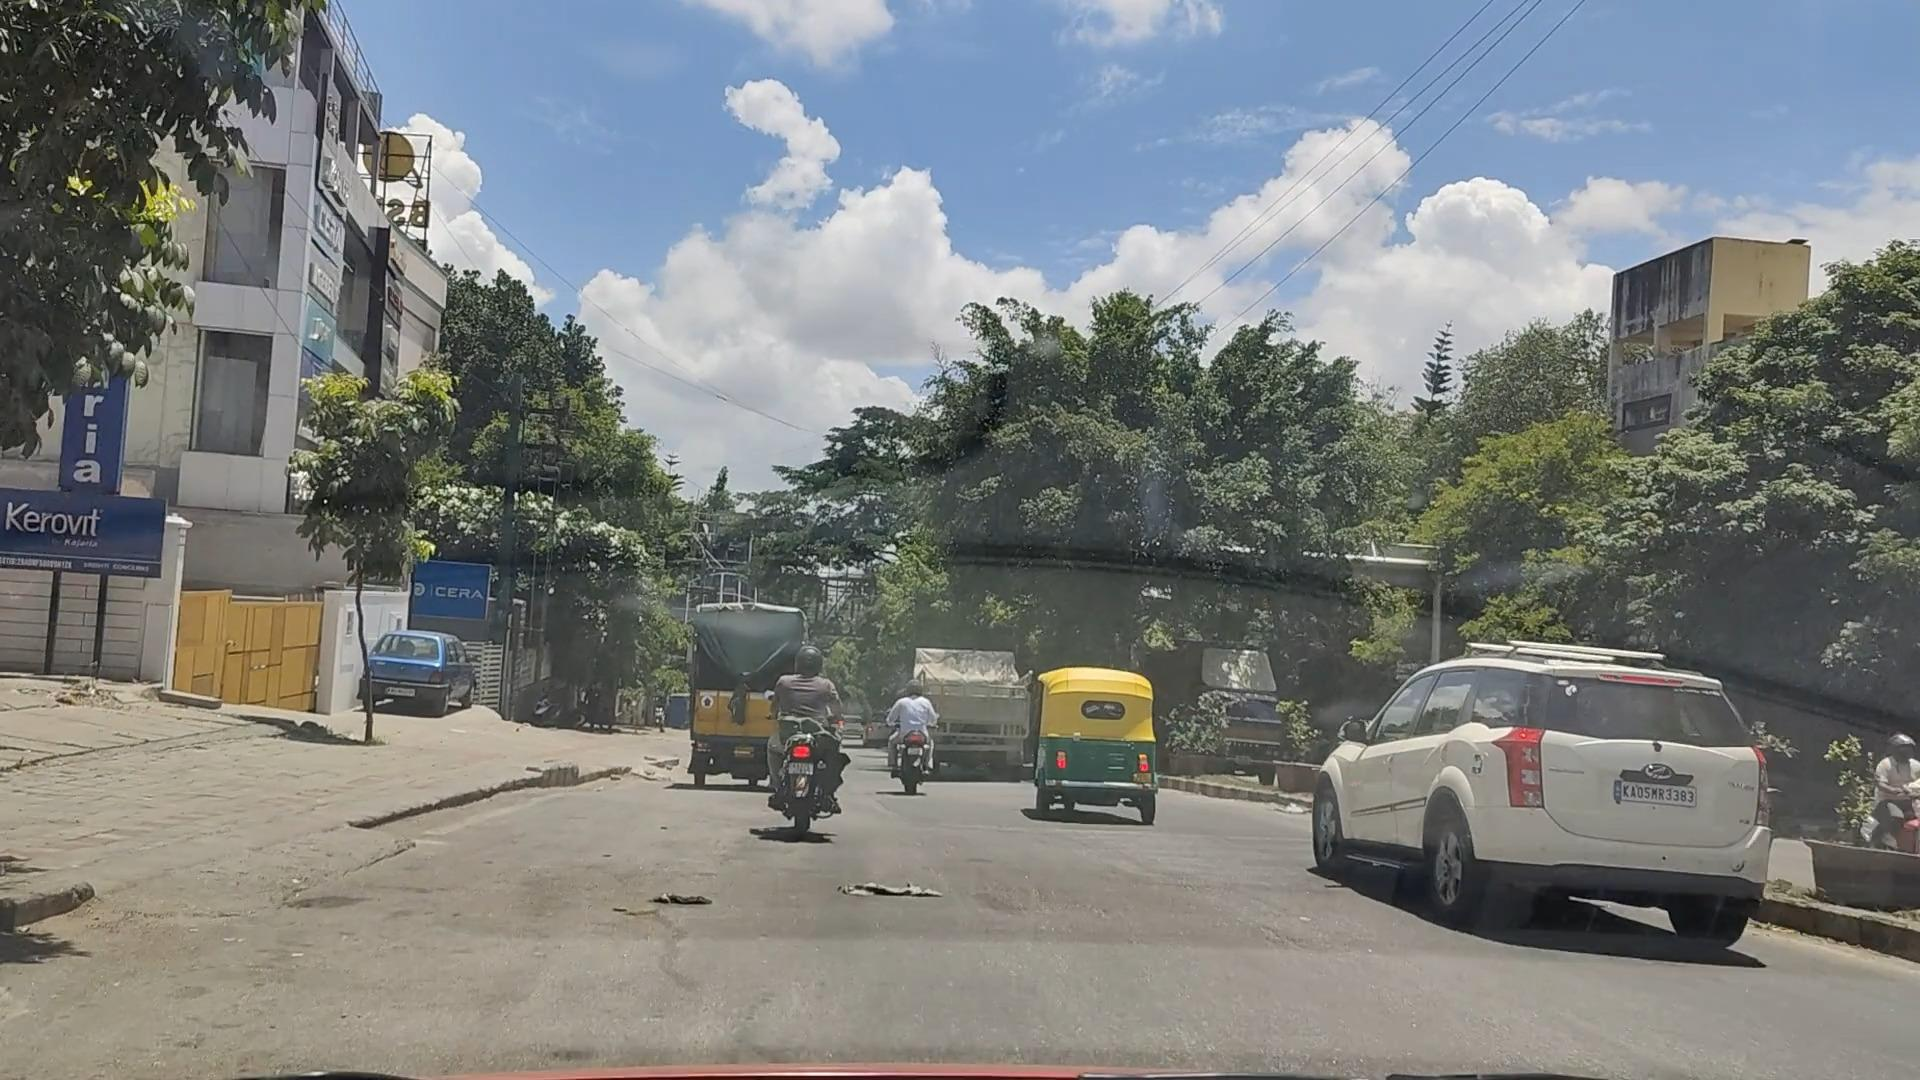HMV: (870, 603, 1047, 804), (659, 574, 815, 796)
